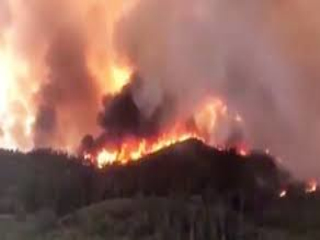fire: (89, 126, 229, 173)
smoke: (101, 8, 311, 136), (25, 23, 92, 157)
